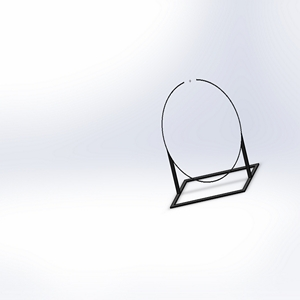circle: (160, 76, 261, 208)
